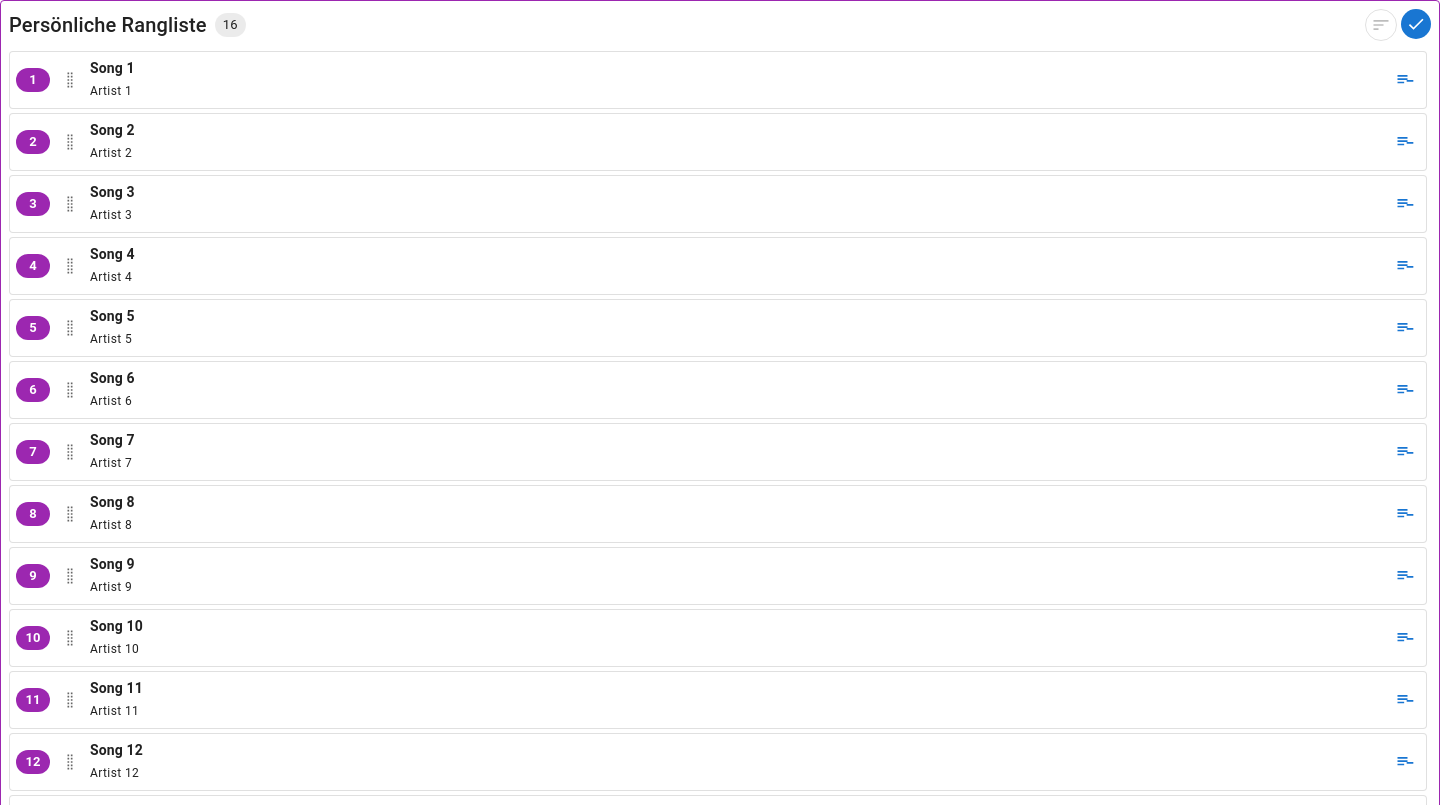
it: BallotPanel › shows completion warnings as hints without disabling the close action
Click the button named "Abstimmung abschließen": (1416, 24) [1401,9,1431,39]
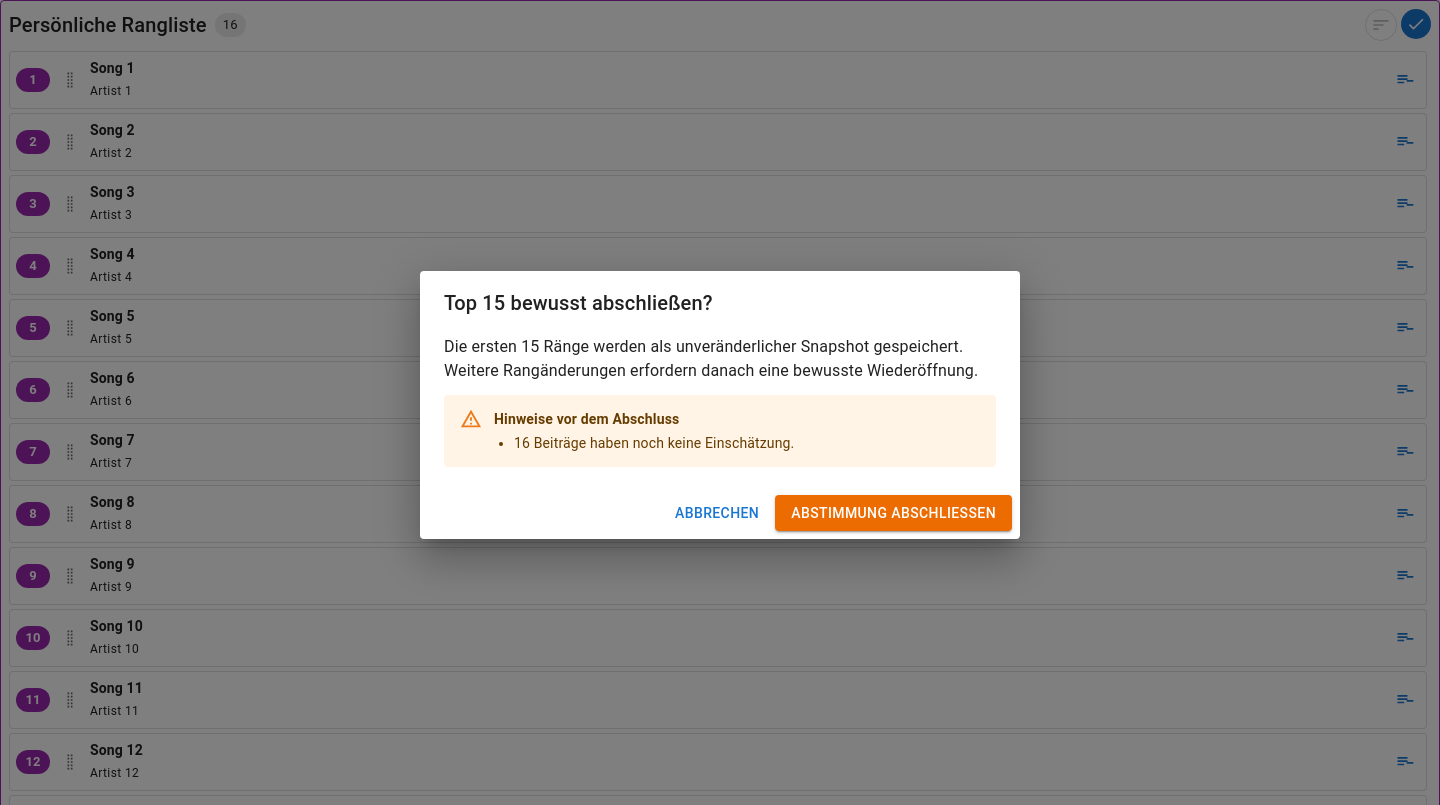
Check: the text "Hinweise vor dem Abschluss" is shown, box [494,411,679,427]
Check: the list item "16 Beiträge haben noch keine Einschätzung." is shown, box [514,433,794,453]
Check: the button "Abstimmung abschließen" is enabled, box [775,495,1012,531]
